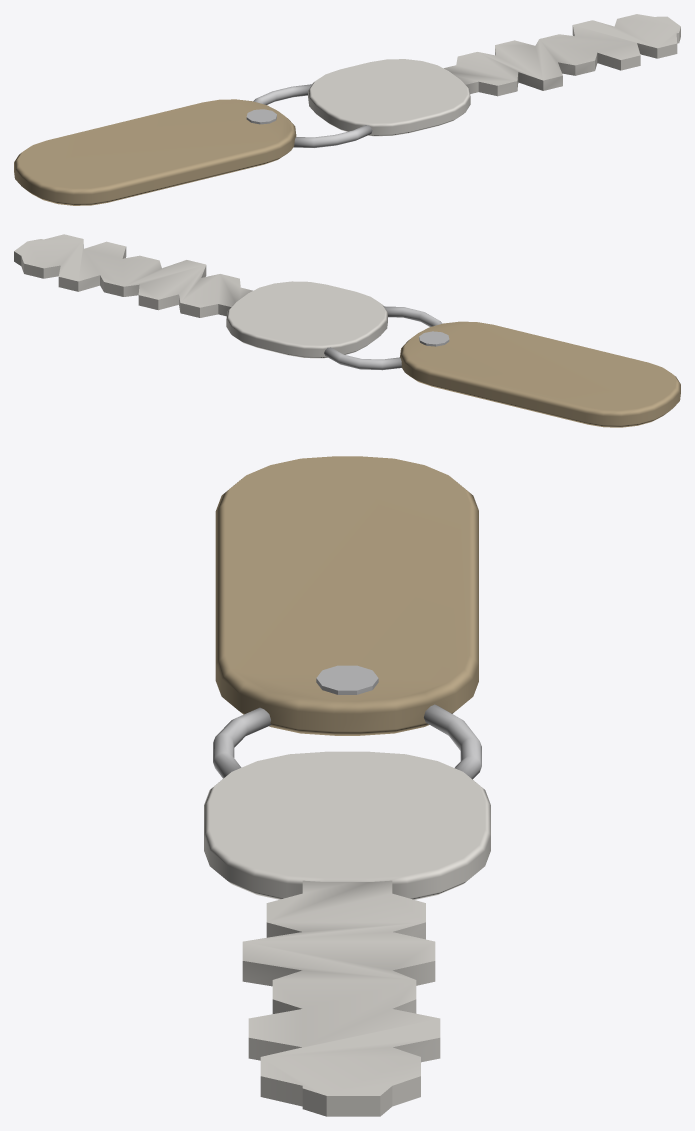
Rendered from ix_key_safe.gltf.
3 renders of one model, top to bottom at view 1: azimuth 30°, elevation 25°; view 2: azimuth 150°, elevation 25°; view 3: azimuth 270°, elevation 25°, orthographic. The views are drawn at different scales.
Parts seen in each view (by area): view 1: IX_KeySafe, IX_KeySafe_Fob; view 2: IX_KeySafe, IX_KeySafe_Fob; view 3: IX_KeySafe, IX_KeySafe_Fob.
Boxes of the visible parts, x1=… form: IX_KeySafe: x1=246, y1=14, x2=680, y2=147; IX_KeySafe_Fob: x1=14, y1=99, x2=296, y2=205; IX_KeySafe: x1=14, y1=234, x2=449, y2=370; IX_KeySafe_Fob: x1=400, y1=321, x2=680, y2=427; IX_KeySafe: x1=204, y1=665, x2=490, y2=1116; IX_KeySafe_Fob: x1=215, y1=456, x2=478, y2=735.
Bounding box in the file's own units: 0.125 × 0.0036 × 0.024.
